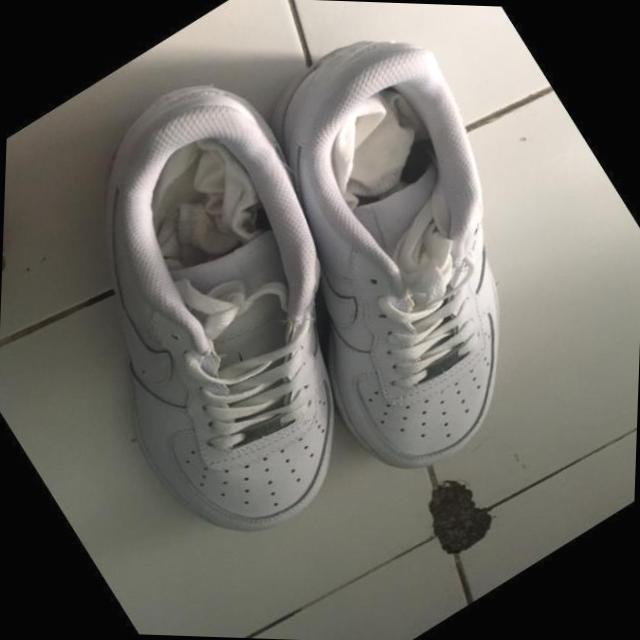nike_fake_airforce: (0, 46, 469, 586), (152, 0, 632, 509)
